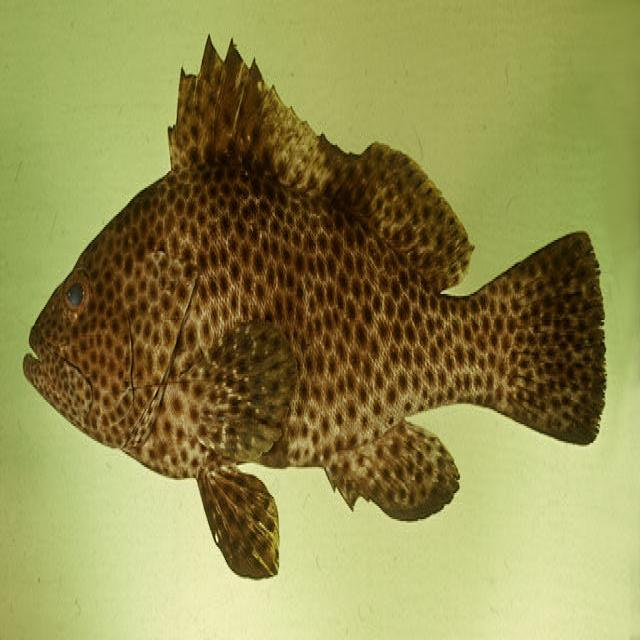ikan: (22, 32, 607, 580)
